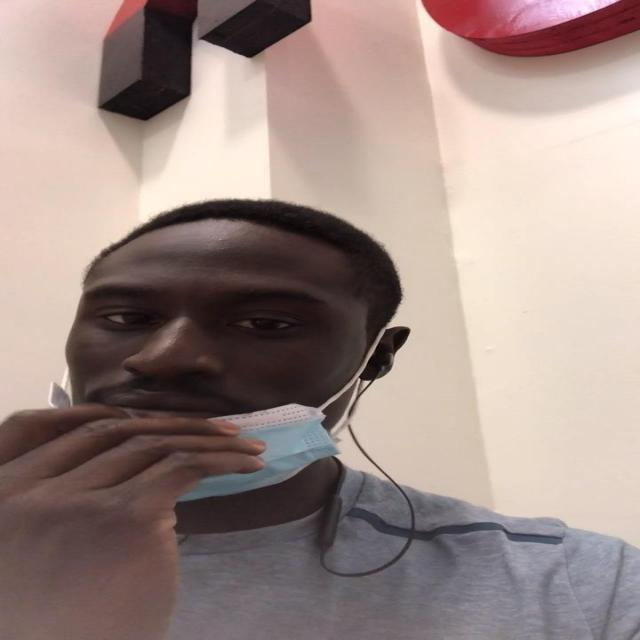face: (62, 221, 380, 501)
